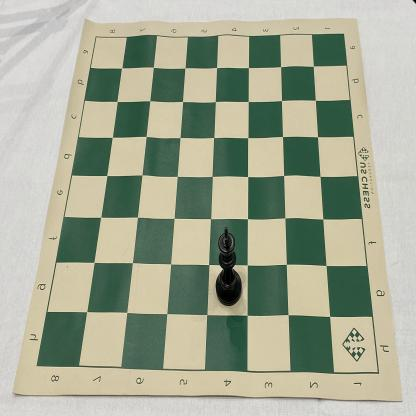black-king: (215, 227, 242, 306)
